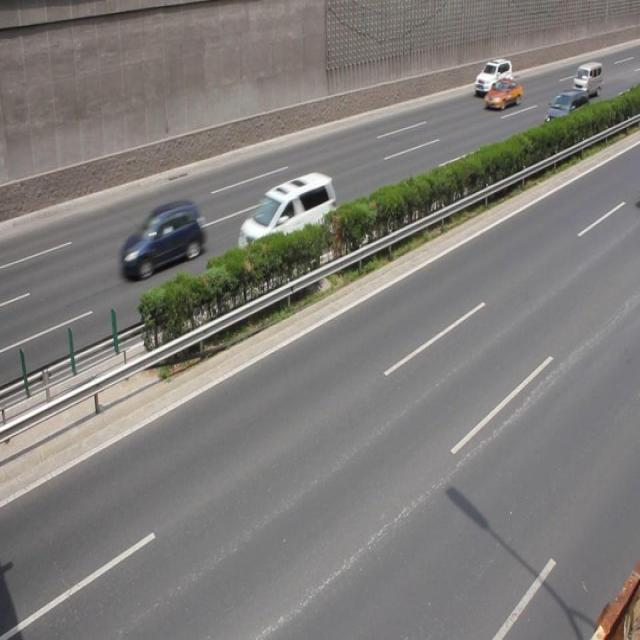car: (234, 173, 337, 267), (117, 198, 207, 280), (541, 91, 588, 133), (473, 58, 511, 96), (482, 76, 520, 110)
truck: (571, 60, 600, 100)
